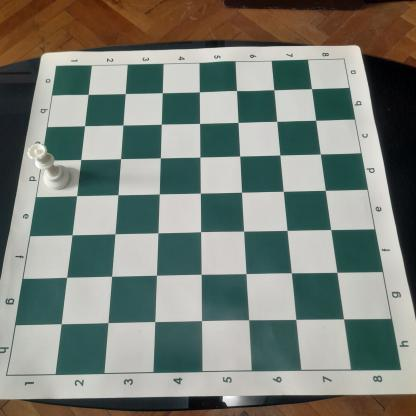white-queen: (26, 143, 73, 191)
